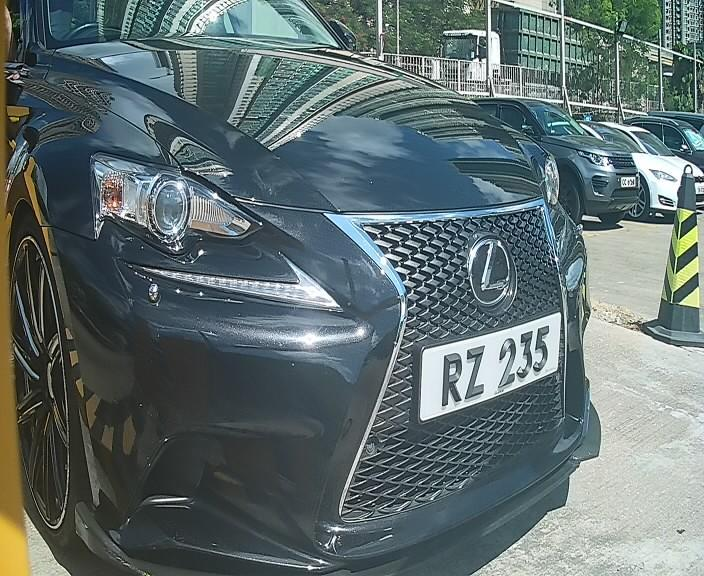privatecar: (10, 11, 604, 556)
